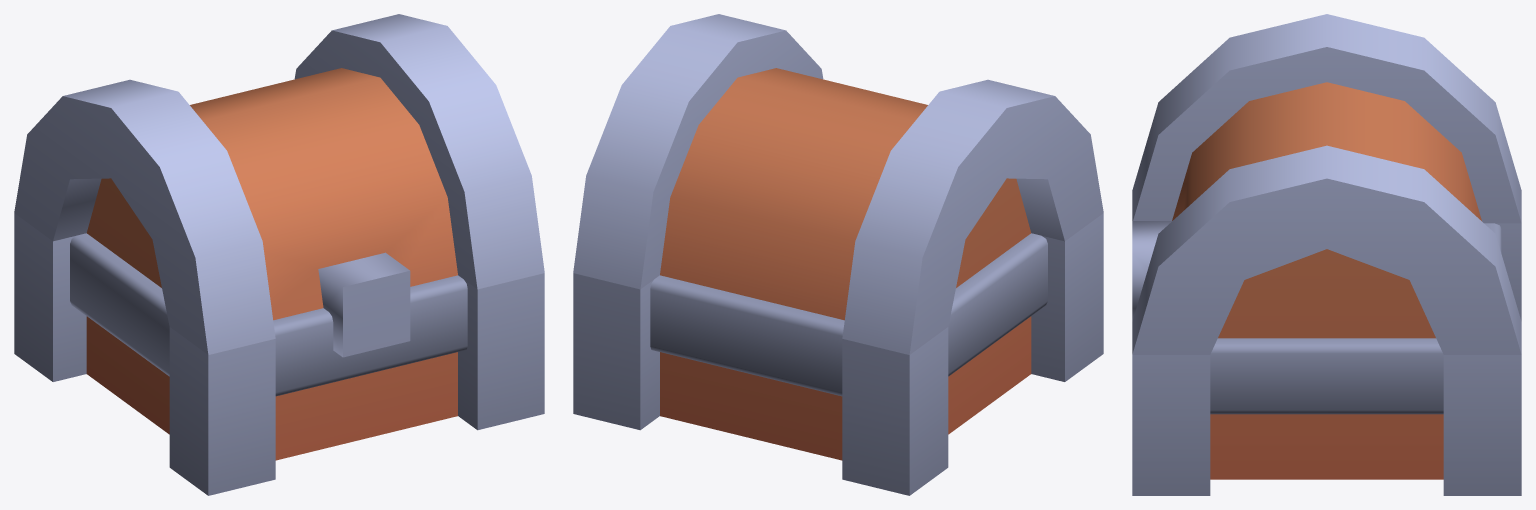
The model's file is chest.obj.
3 renders of one model, left to right at view 1: azimuth 30°, elevation 25°; view 2: azimuth 150°, elevation 25°; view 3: azimuth 270°, elevation 25°, orthographic.
Visible parts, largest first — view 1: lid, chest; view 2: lid, chest; view 3: lid, chest.
Part boxes in pixels (x1=…): lid: x1=14, y1=14, x2=544, y2=357; chest: x1=14, y1=213, x2=544, y2=495; lid: x1=573, y1=14, x2=1103, y2=354; chest: x1=573, y1=213, x2=1103, y2=495; lid: x1=1132, y1=14, x2=1521, y2=354; chest: x1=1132, y1=223, x2=1521, y2=495.
Bounding box in the file's own units: 0.5 × 0.45 × 0.5.
Materials: 1 (1 with a texture image).
